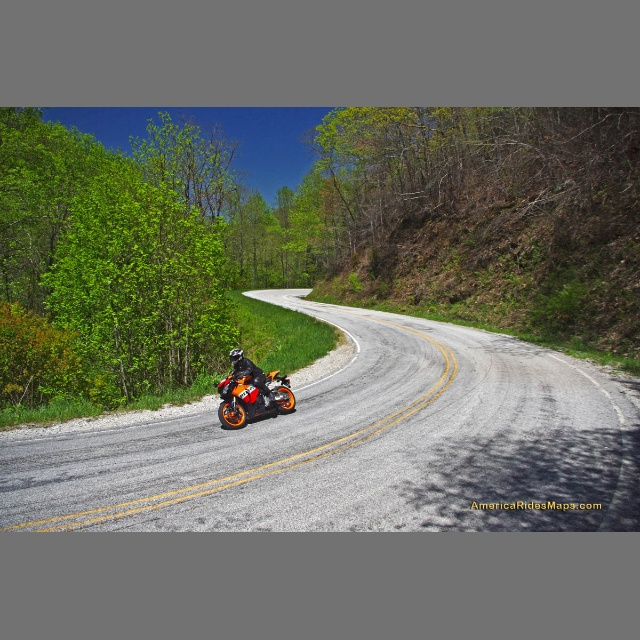Мотоцикл: (216, 348, 297, 427)
